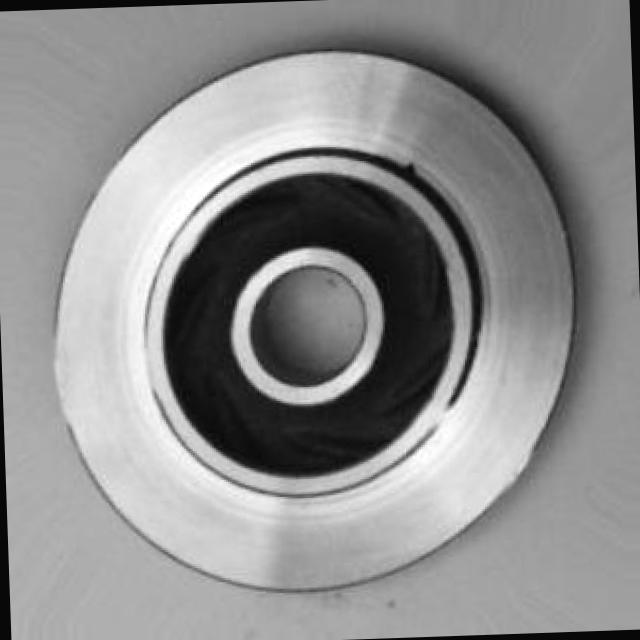Defect: (404, 153, 421, 184)
